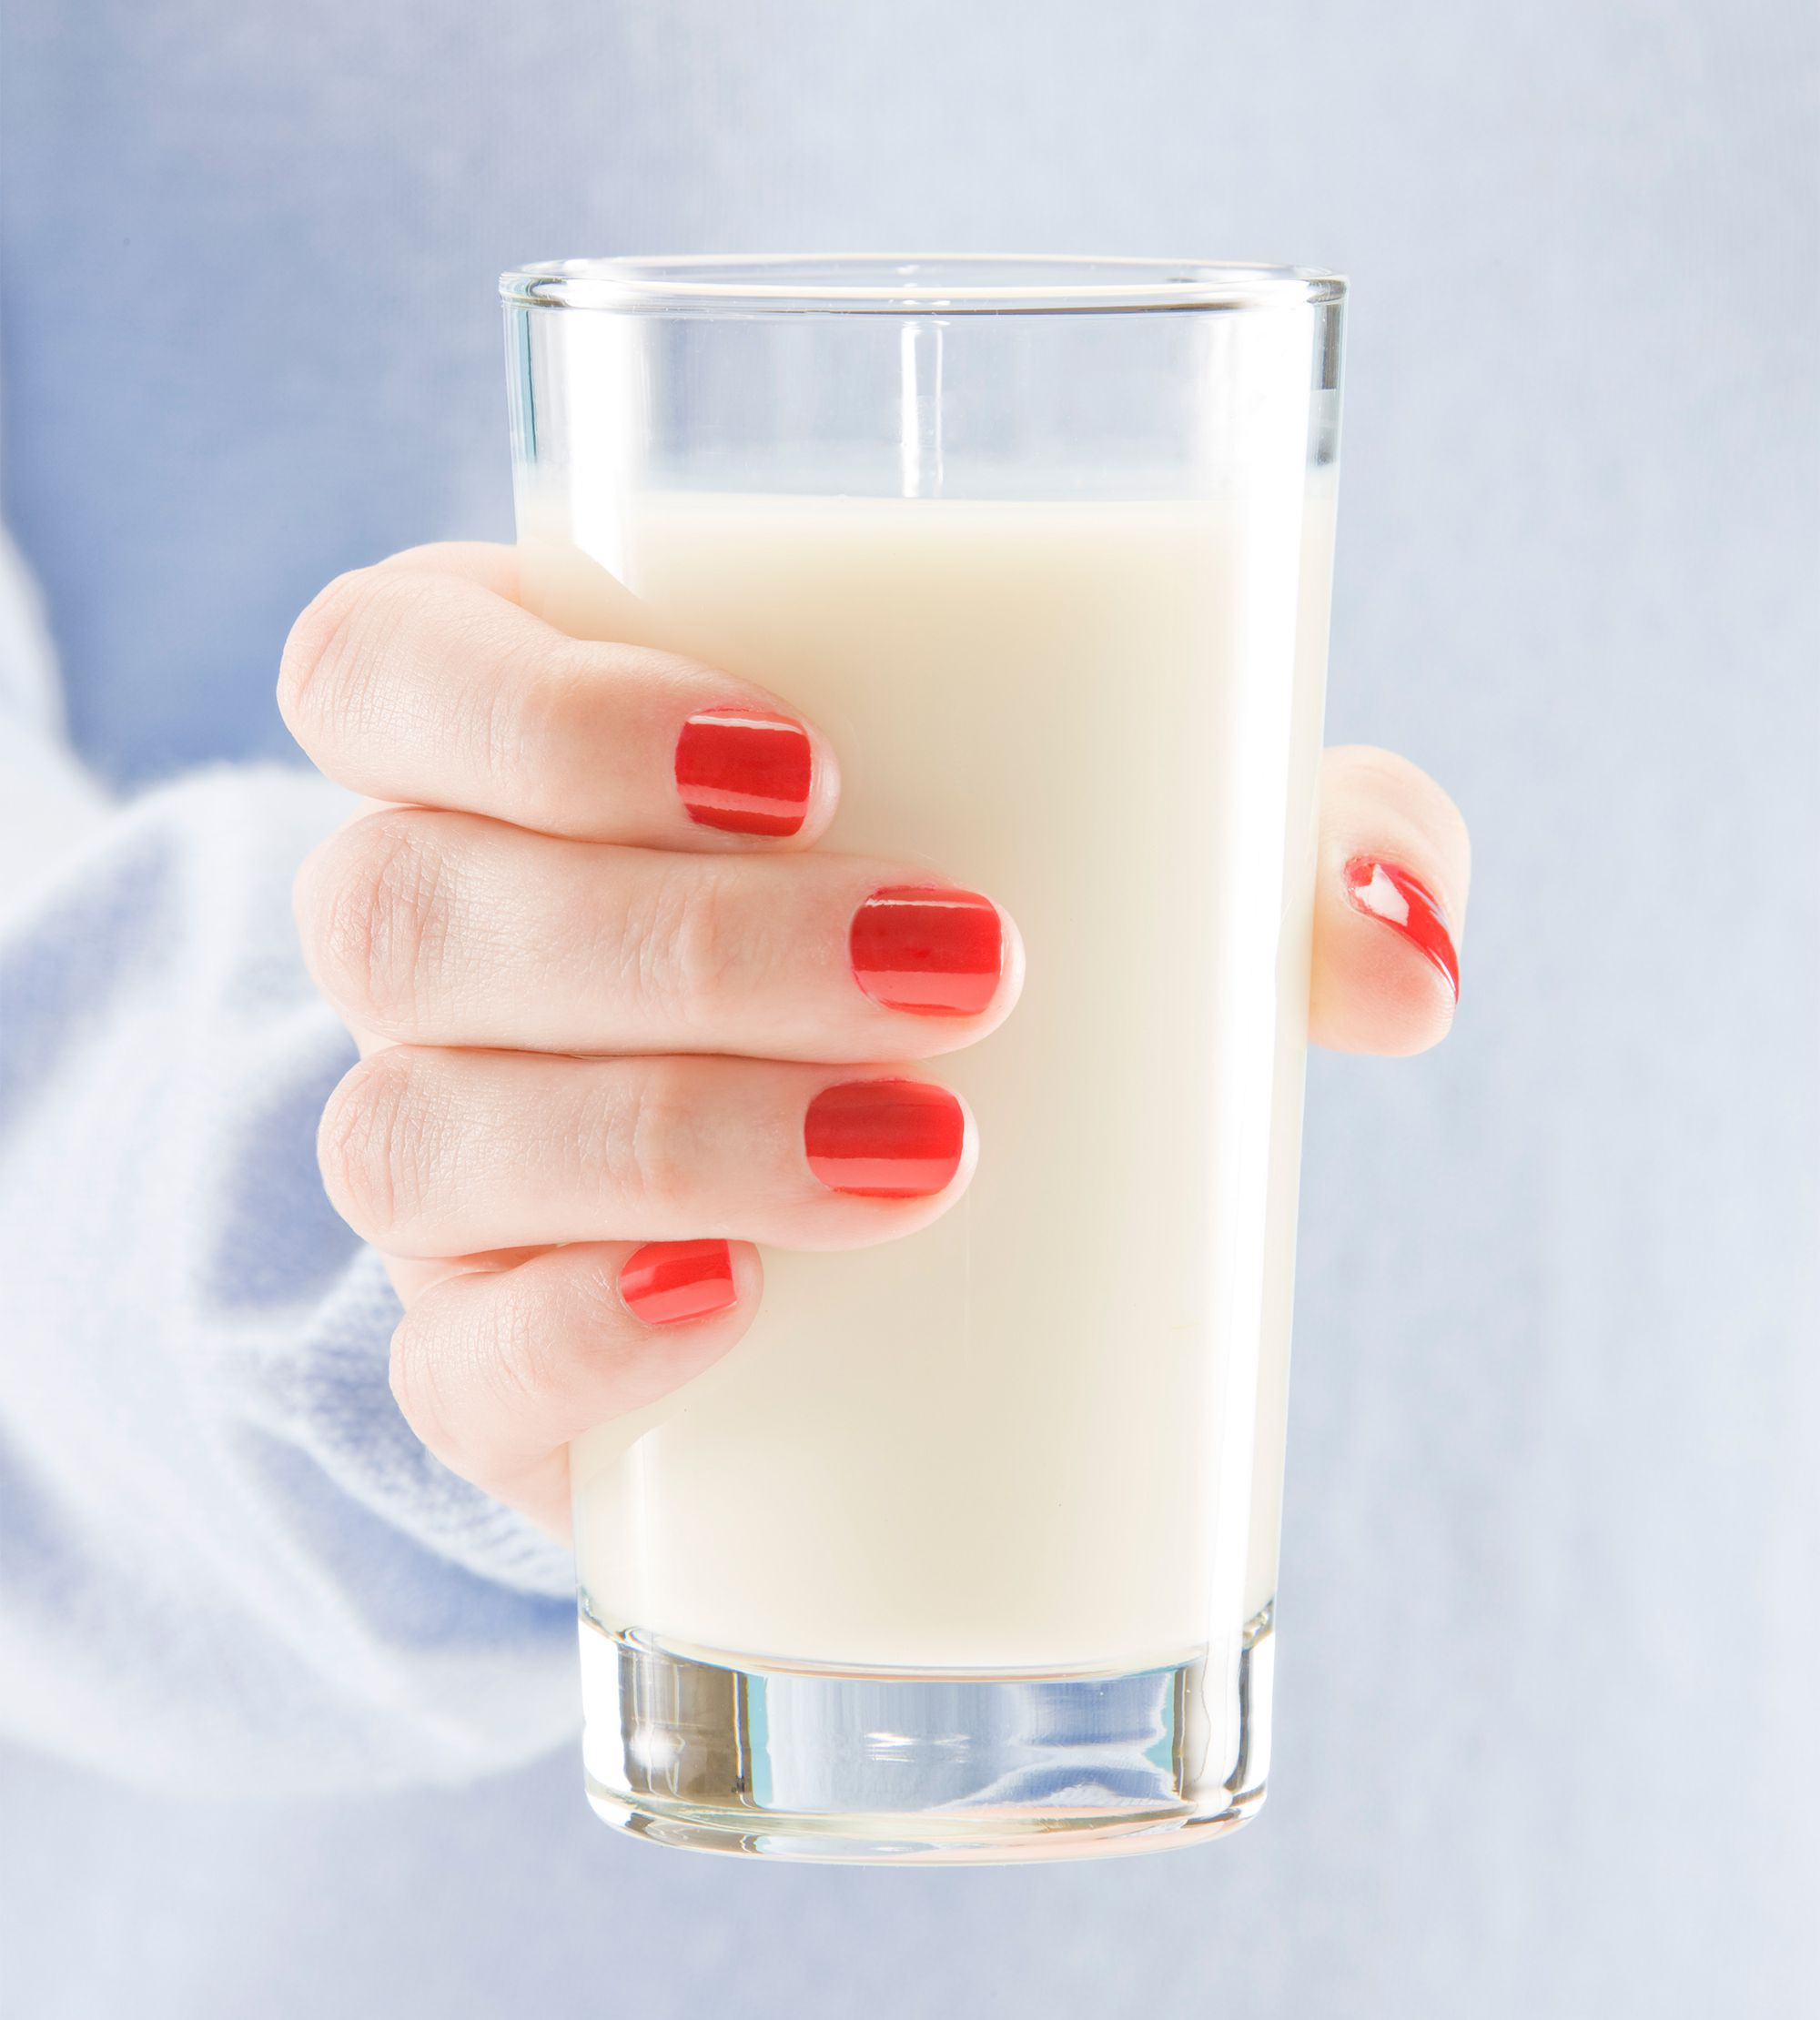glass of milk: (497, 214, 1351, 1904)
